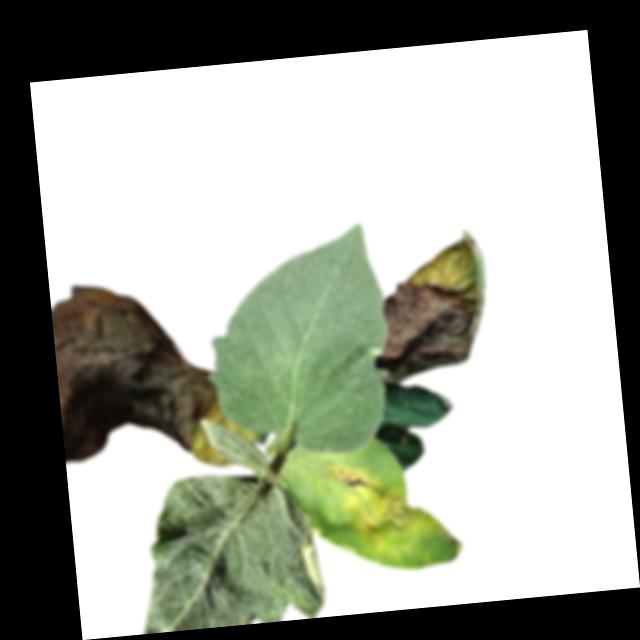Late_blight: (50, 271, 224, 466), (365, 227, 496, 387), (328, 458, 427, 548)
